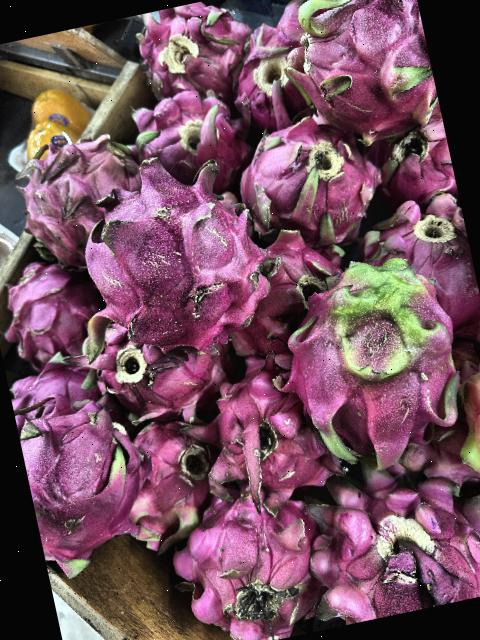buah-naga-belum-matang: (275, 240, 479, 475), (452, 347, 480, 490)
buah-naga-matang: (68, 148, 280, 358), (4, 340, 162, 587), (293, 437, 480, 628), (166, 477, 351, 640), (188, 352, 342, 516), (221, 102, 382, 250), (281, 0, 441, 140), (69, 300, 237, 426), (8, 122, 146, 254), (353, 187, 480, 330), (118, 405, 236, 556), (244, 222, 359, 362), (128, 79, 260, 196), (0, 248, 118, 370), (211, 10, 326, 127), (123, 0, 243, 90), (360, 113, 458, 210)
